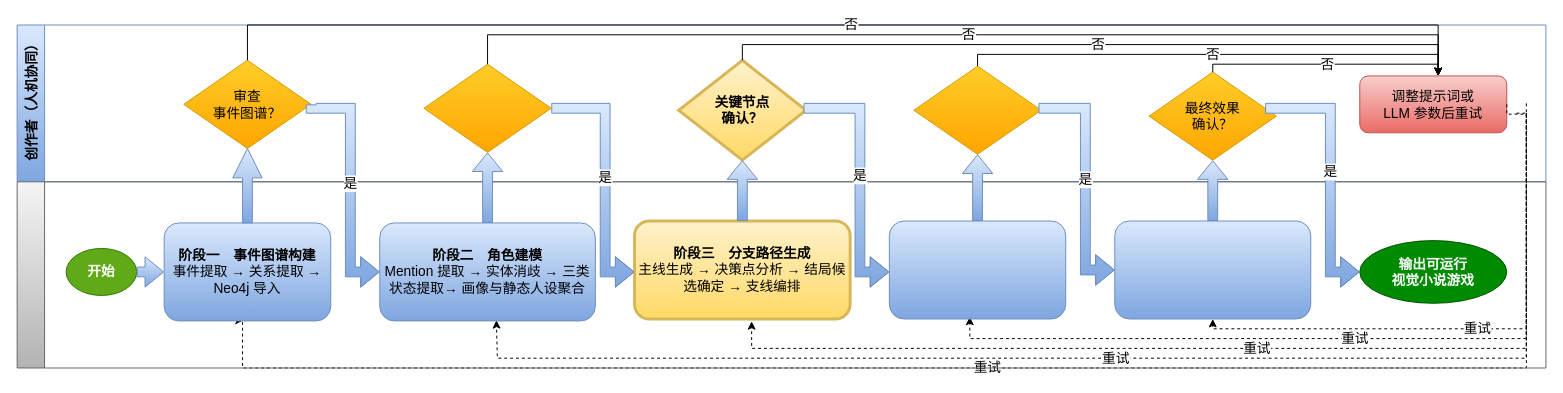
Some shapes in this 1563 by 393 pixel diagram are drawn without their labels. The box of each missing label's shape, as (x1, y1, x2, y2) in pixels:
内容生成系统: (16, 181, 1546, 368)
审查 人设与画像？: (423, 63, 551, 152)
审查 文风与扩写？: (913, 65, 1041, 154)
阶段五 脚本化呈现（Ren'Py） 脚本自动化生成 → 美术/音乐资源绑定: (1114, 220, 1311, 319)
阶段四 叙事扩写 事件补全 → 场景扩写 → 对话生成 → 内容块编排: (888, 220, 1066, 319)
